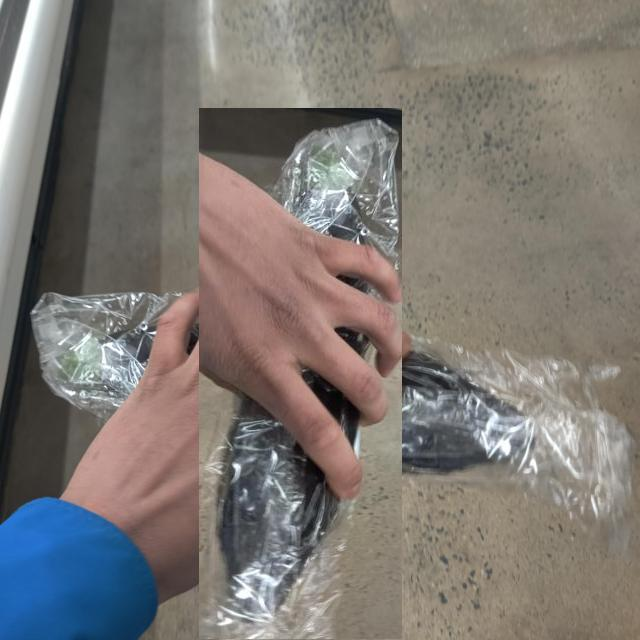Eggplant: (199, 109, 402, 640)
